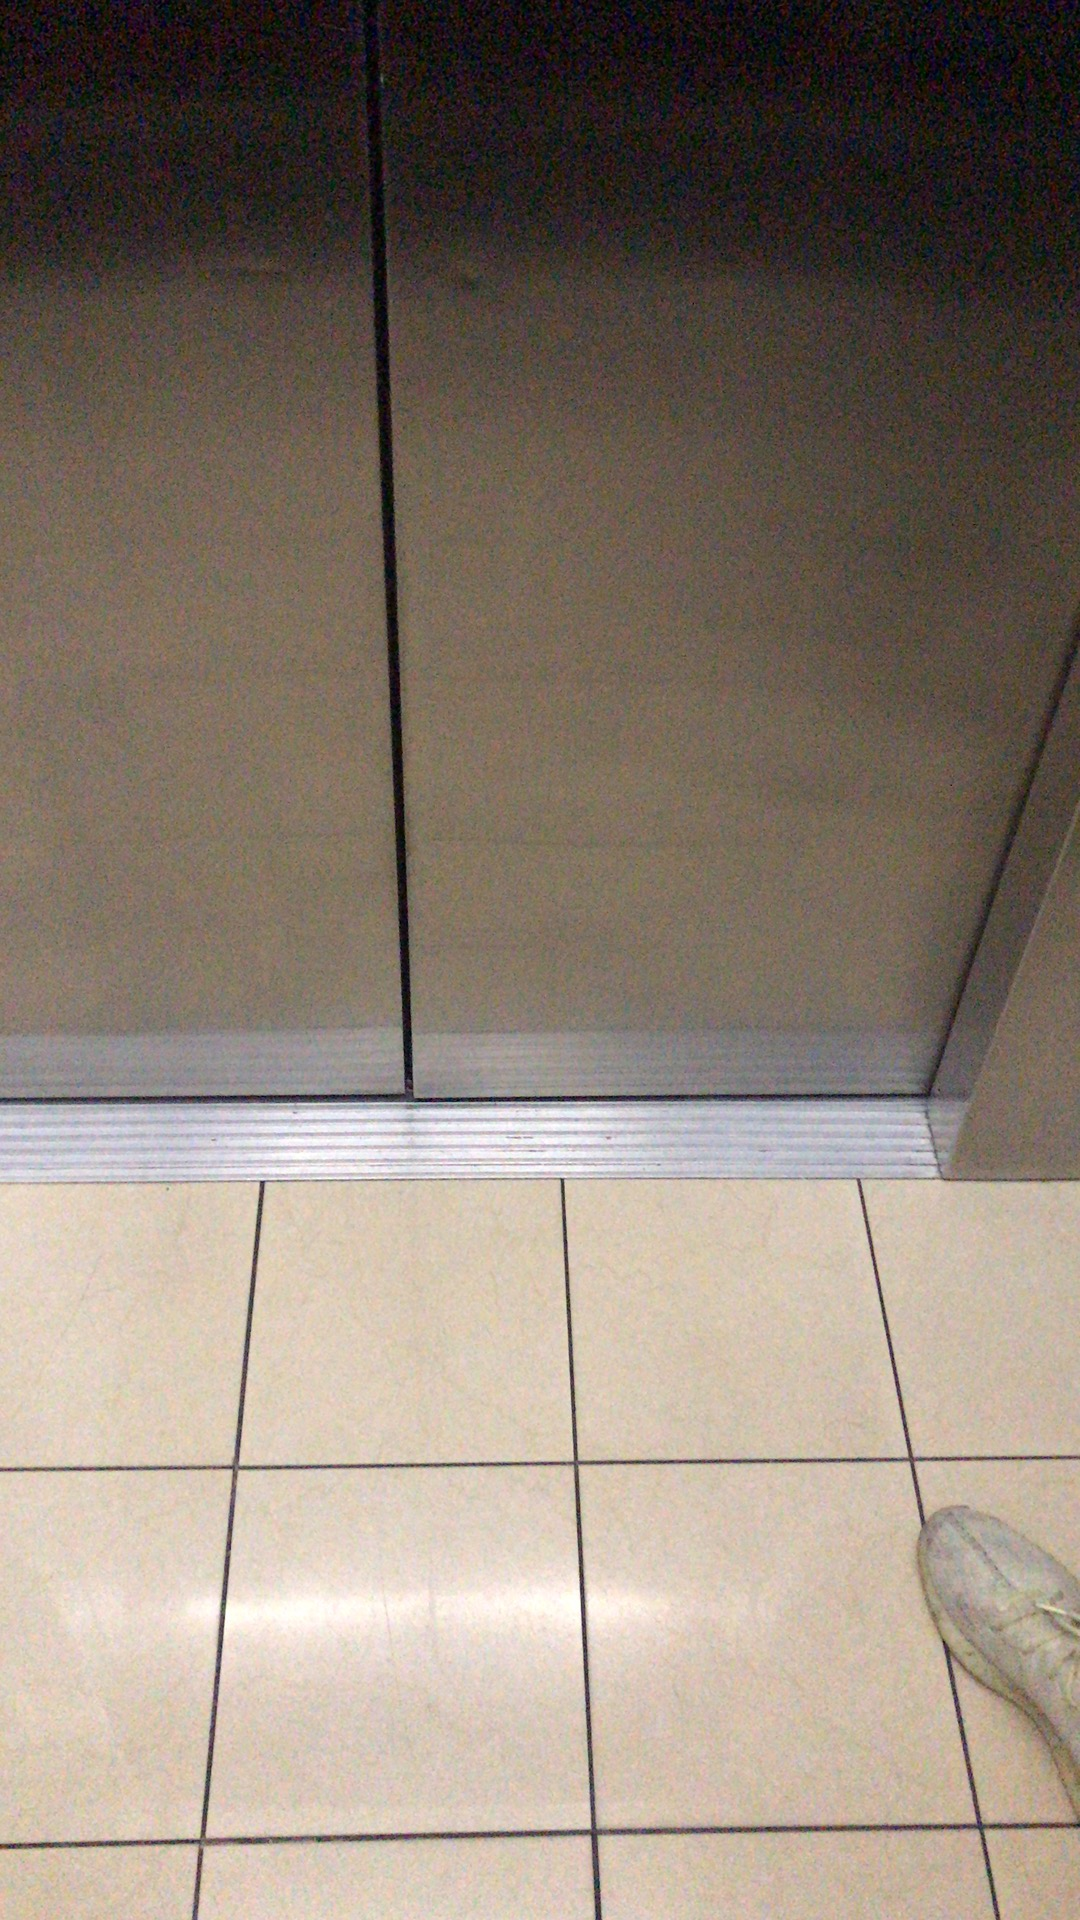Obstacle: (5, 11, 1073, 1195), (901, 1501, 1077, 1792)
